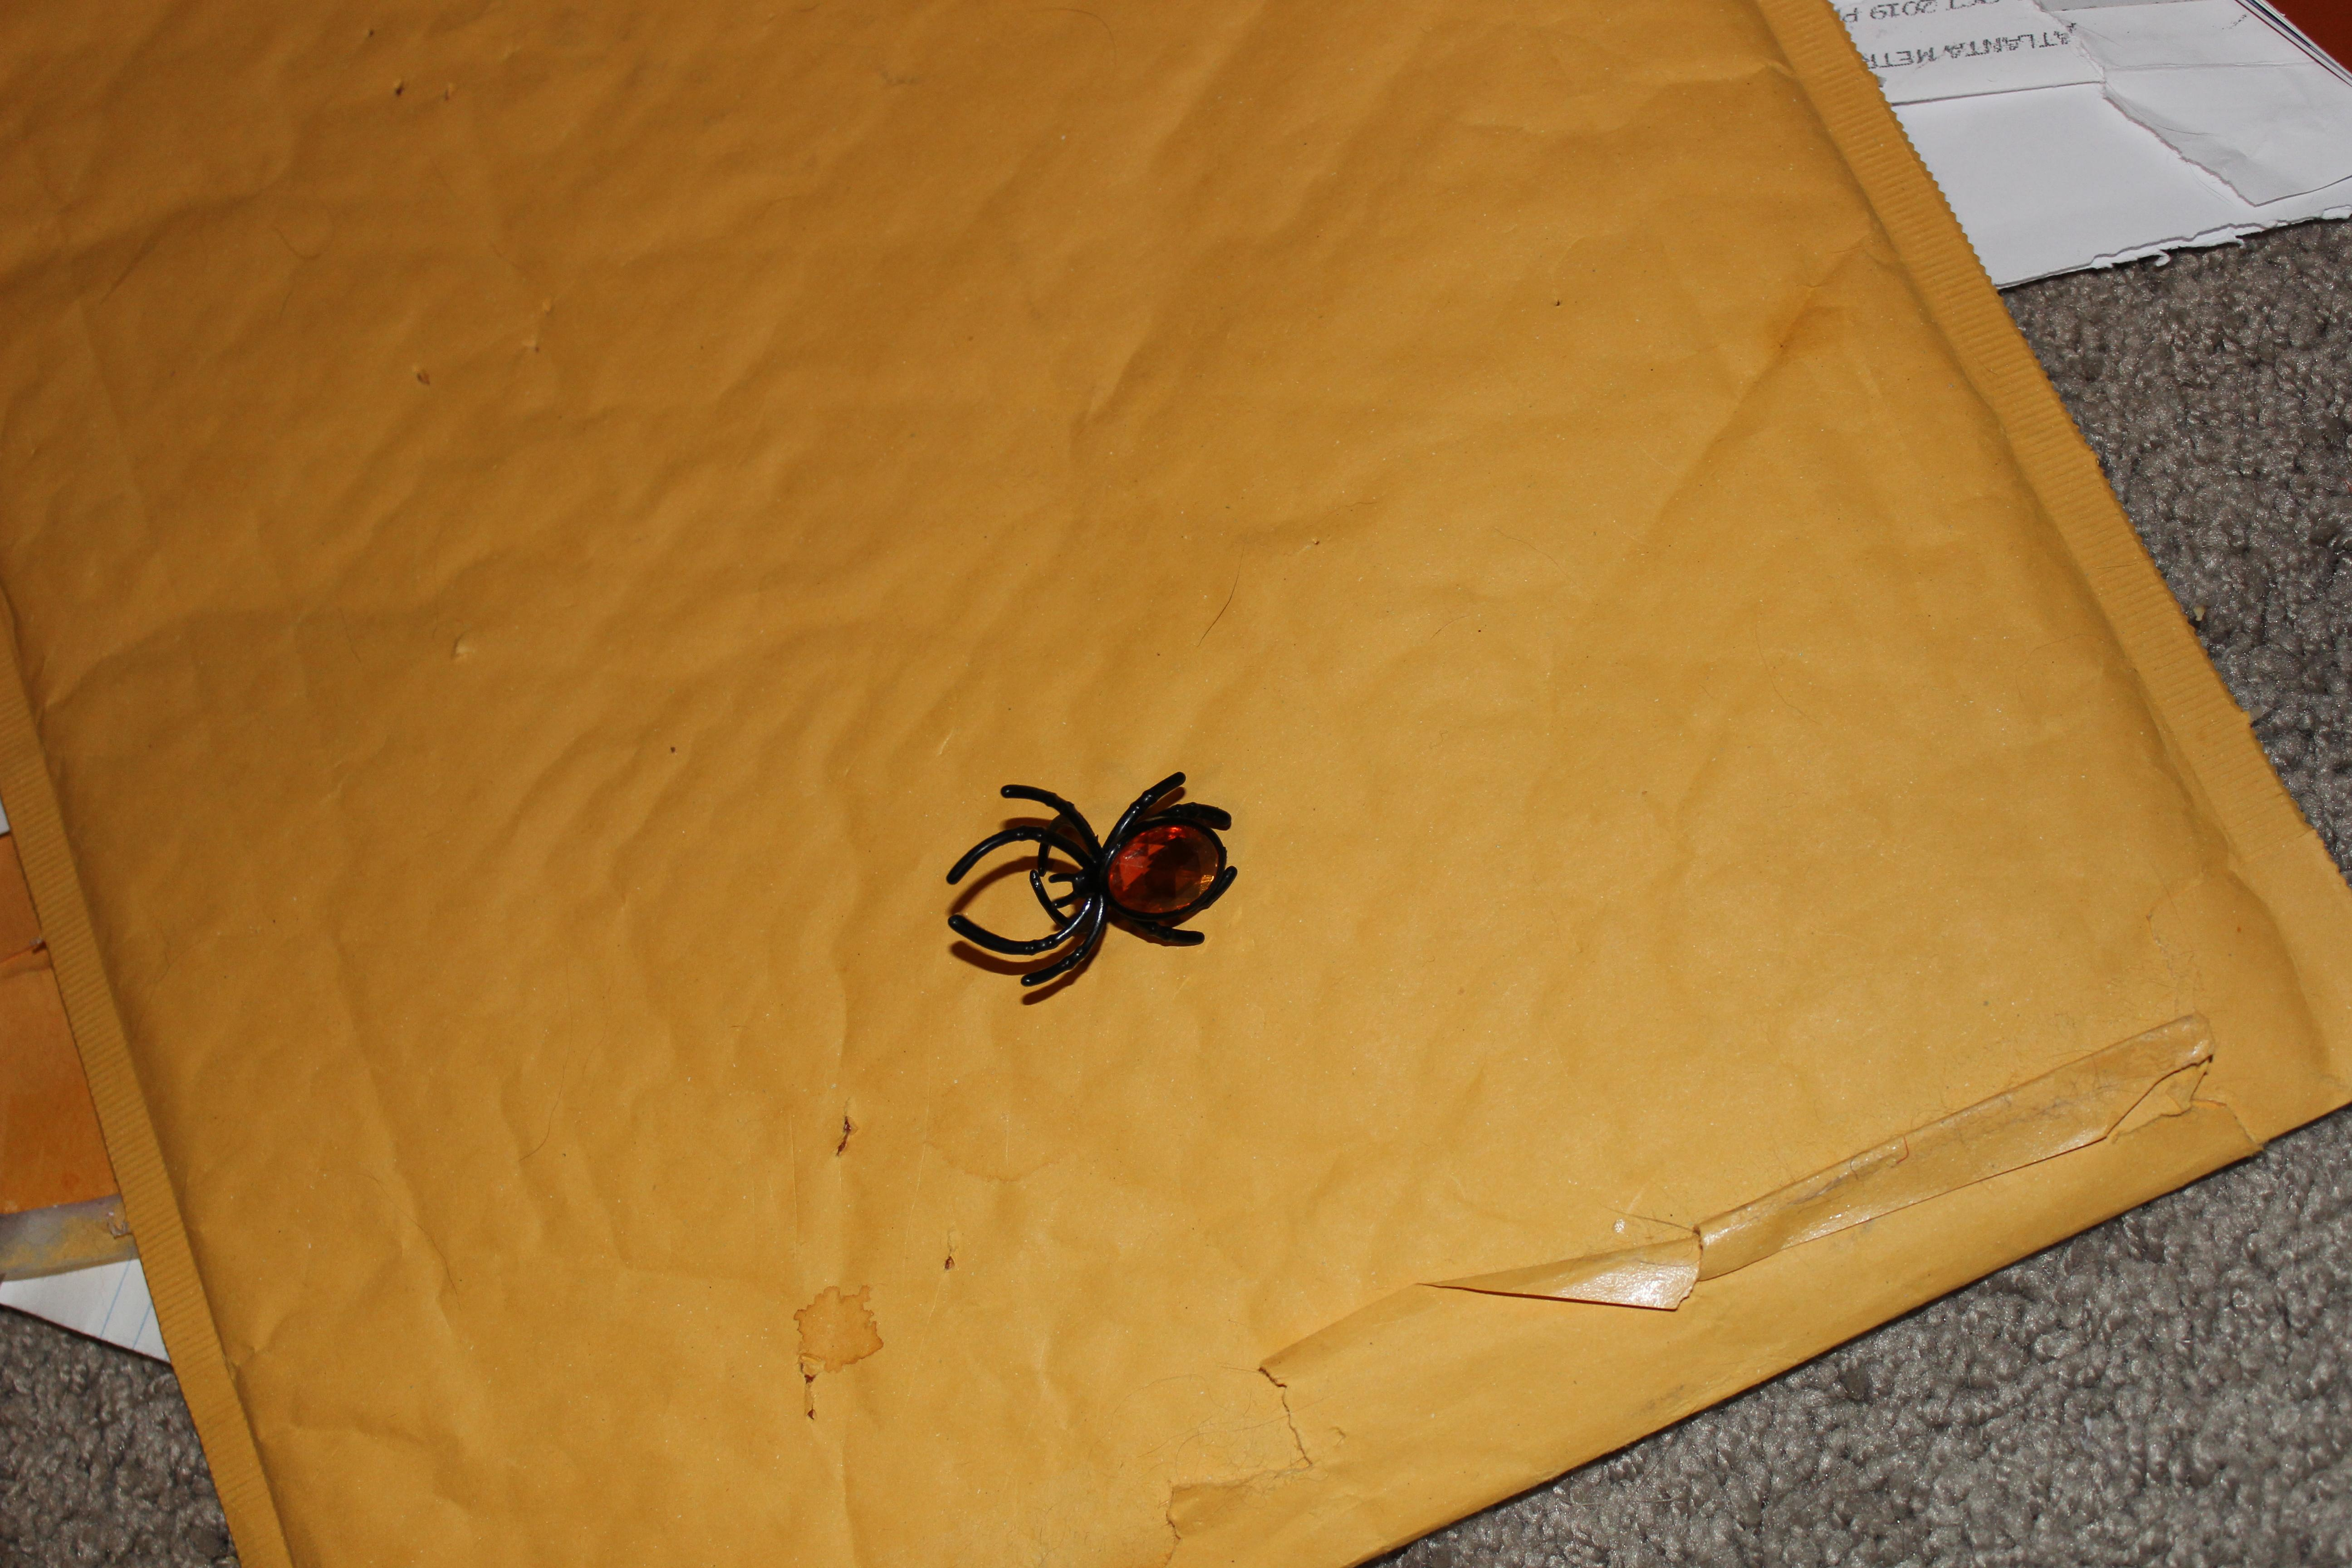spiderRing: (917, 745, 1260, 1032)
